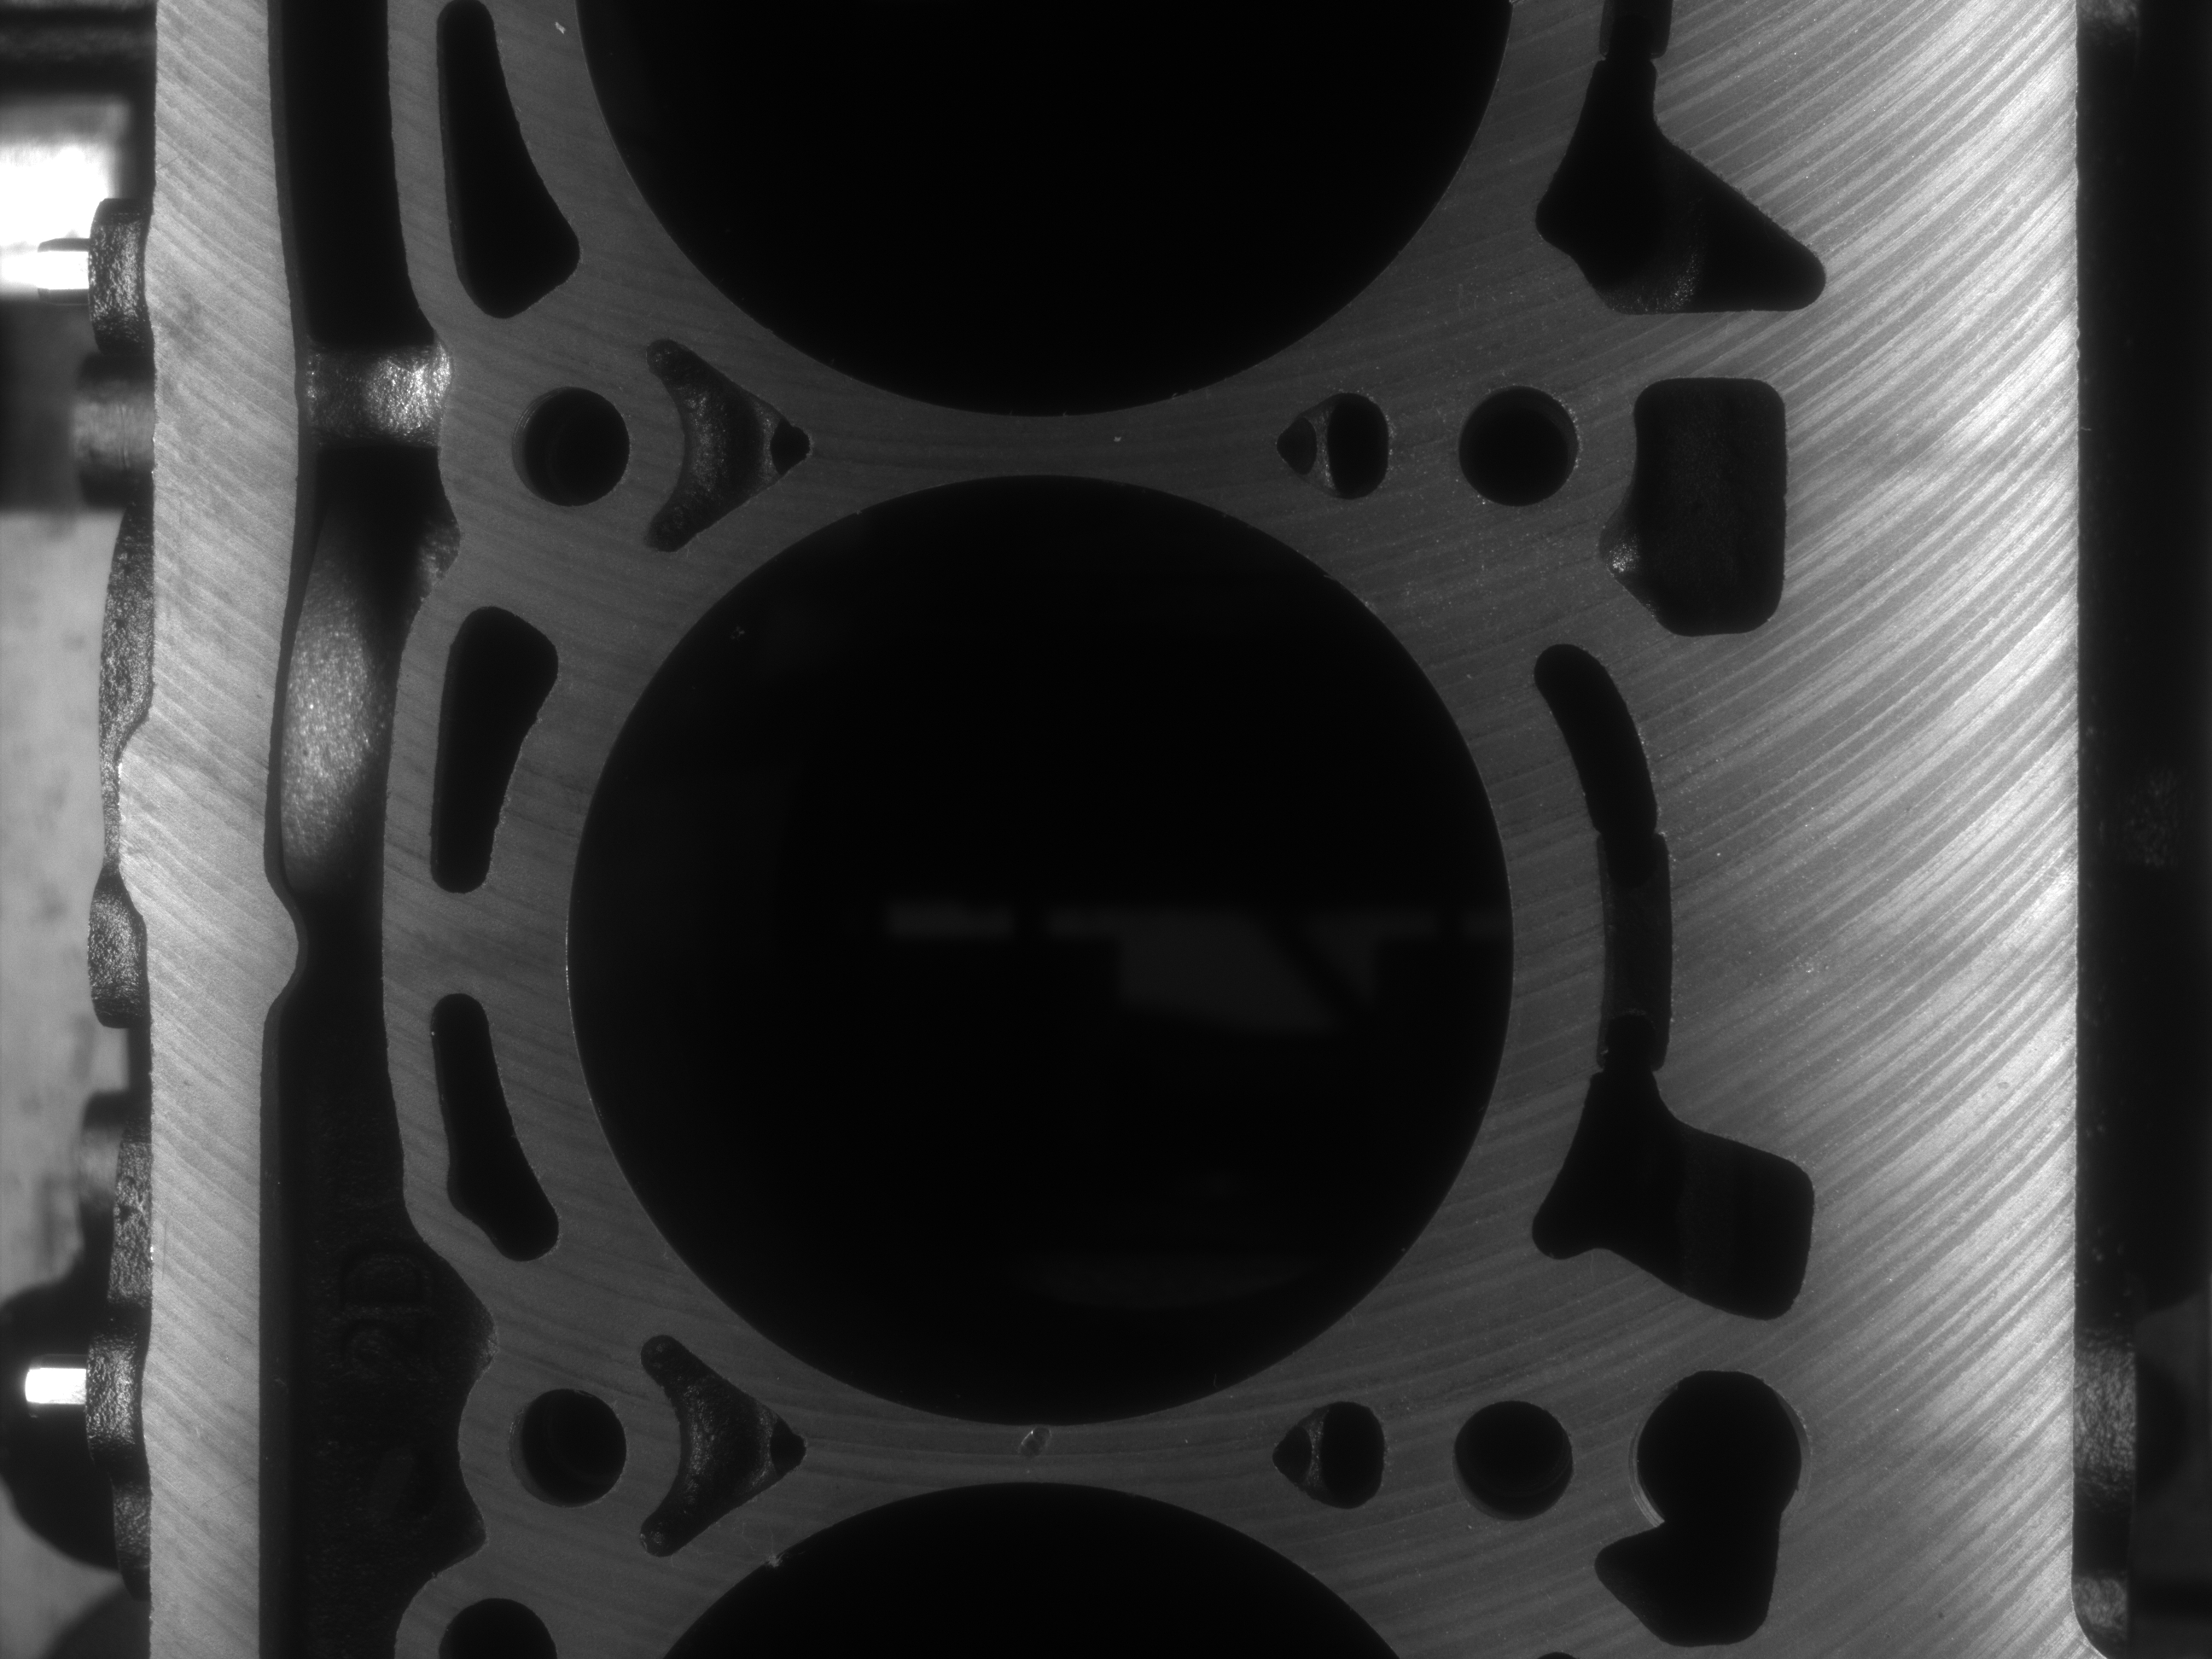shrinkage: (1012, 1425, 1054, 1459)
